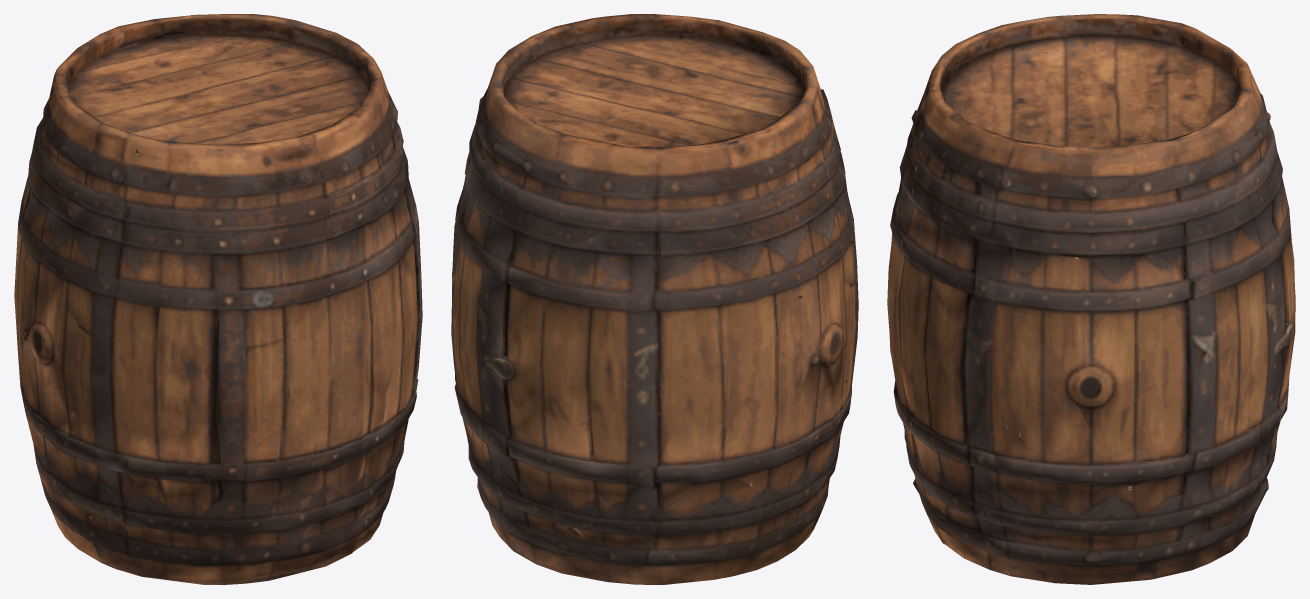
The model's file is wine_barrel.glb.
The picture shows the model from 3 angles, left to right: view 1: azimuth 30°, elevation 25°; view 2: azimuth 150°, elevation 25°; view 3: azimuth 270°, elevation 25°; orthographic projection.
Visible parts, largest first — view 1: Mesh1.0; view 2: Mesh1.0; view 3: Mesh1.0.
Part boxes in pixels (left/top/right/bottom): Mesh1.0: left=14, top=14, right=422, bottom=584; Mesh1.0: left=451, top=14, right=858, bottom=584; Mesh1.0: left=887, top=14, right=1295, bottom=584.
Size of the model in its own units: 1.72 by 1.99 by 1.69.
1 material, 1 textured.
